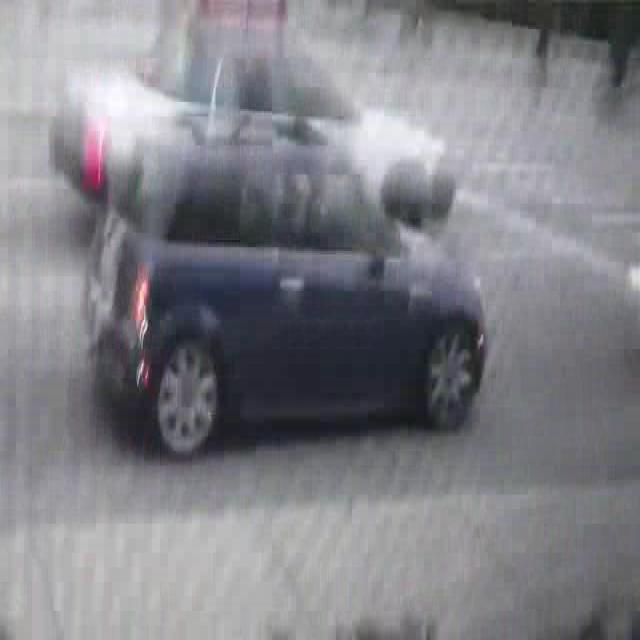other: (130, 263, 159, 391), (79, 102, 110, 196)
